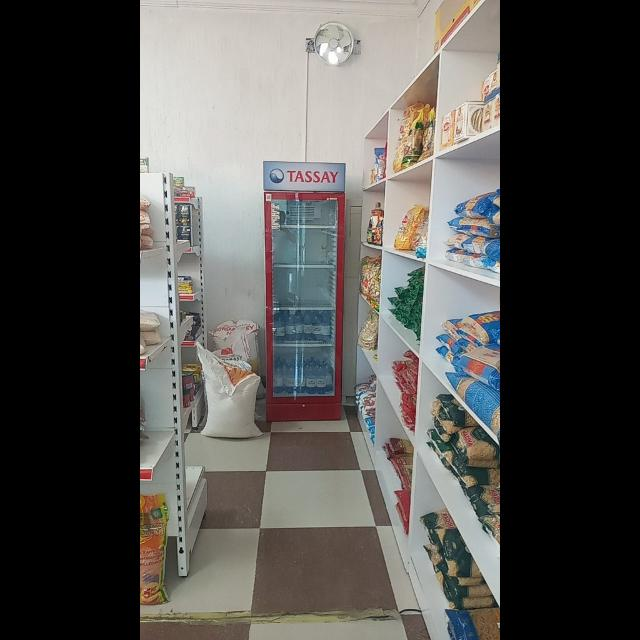Cooling-Display: (262, 160, 346, 420)
